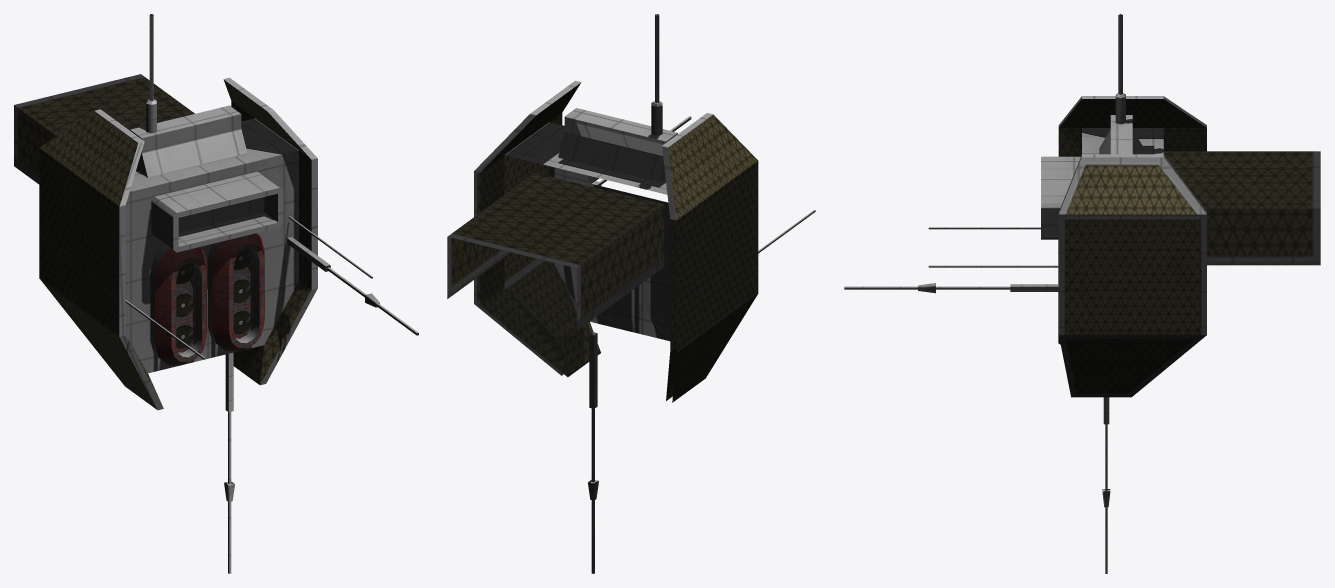
The model's file is ML1_Turret_cap.FBX.
3 views of the same model, side by side, from view 1: azimuth 30°, elevation 25°; view 2: azimuth 150°, elevation 25°; view 3: azimuth 270°, elevation 25° (orthographic). The views are drawn at different scales.
Parts seen in each view (by area): view 1: ML1_Turret_cap; view 2: ML1_Turret_cap; view 3: ML1_Turret_cap.
Boxes of the visible parts, x1,y1,x2,y2 form: ML1_Turret_cap: (14,14,418,573); ML1_Turret_cap: (447,14,815,573); ML1_Turret_cap: (844,14,1320,573).
Bounding box in the file's own units: 5.68 × 15.59 × 12.77.
1 material, 1 textured.
